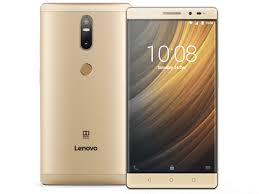lenovo: (37, 3, 132, 188), (125, 3, 220, 188)
